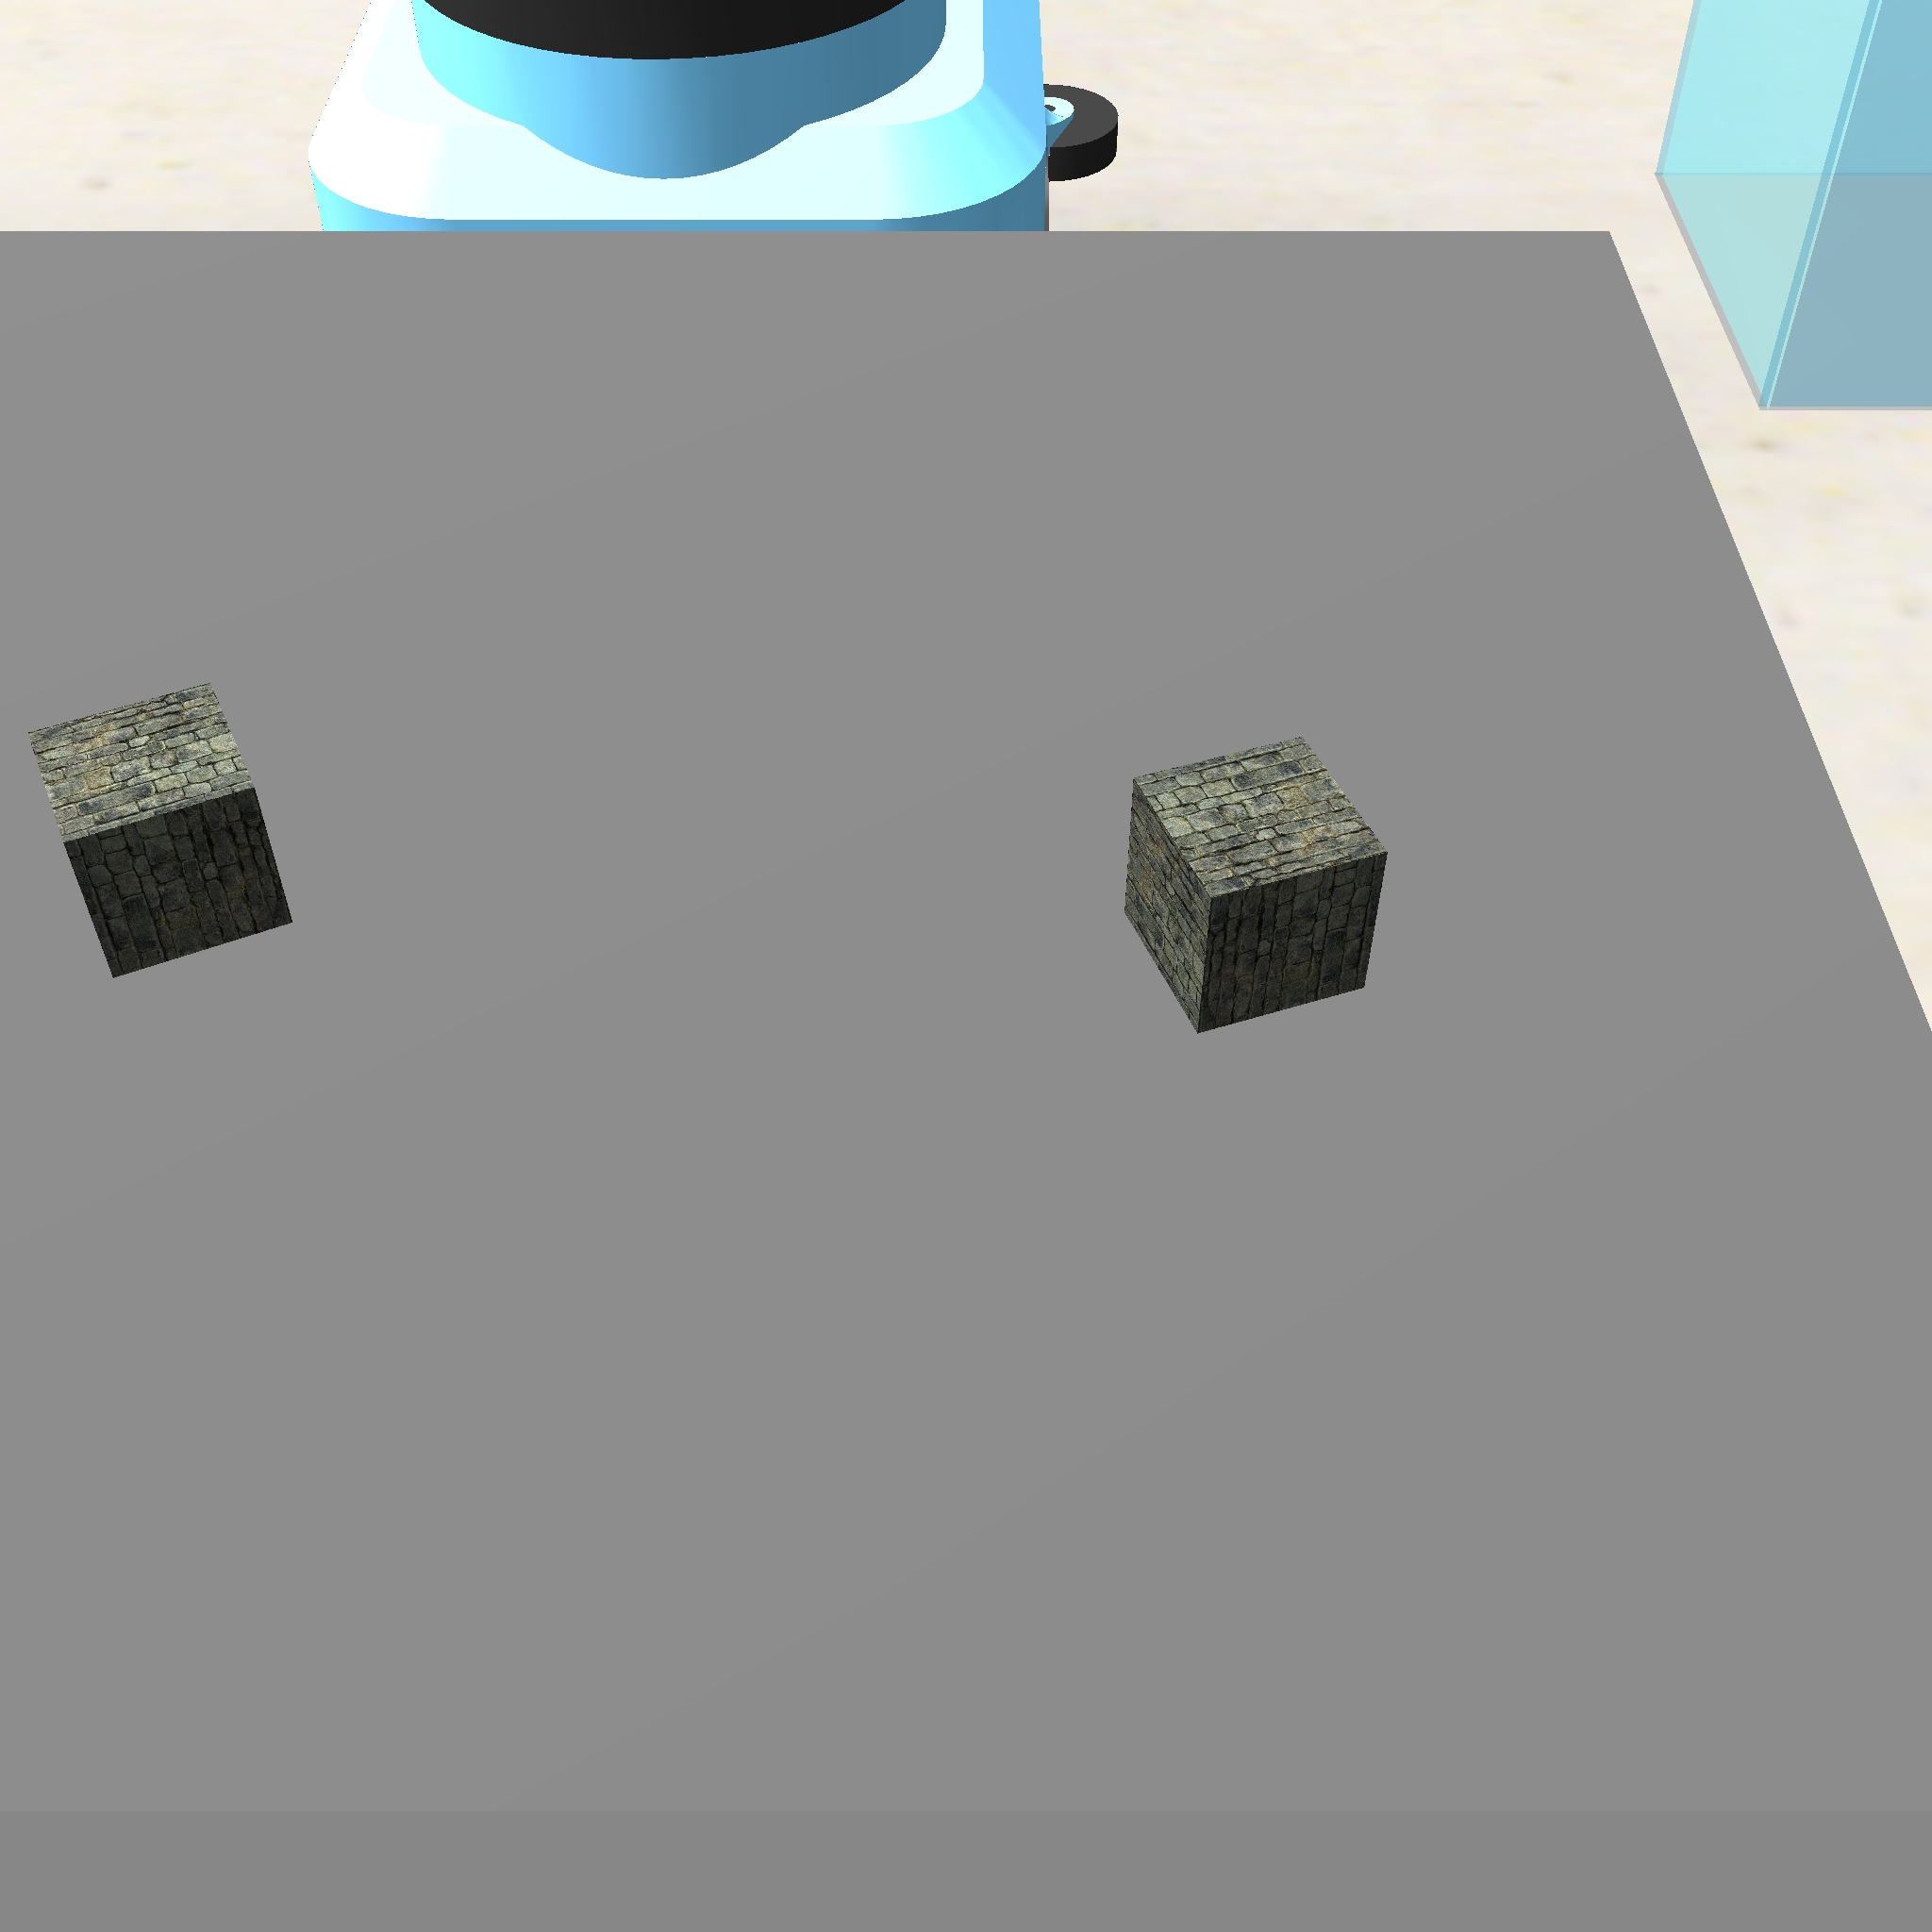cube: (1116, 725, 1396, 1040), (23, 676, 303, 985)
